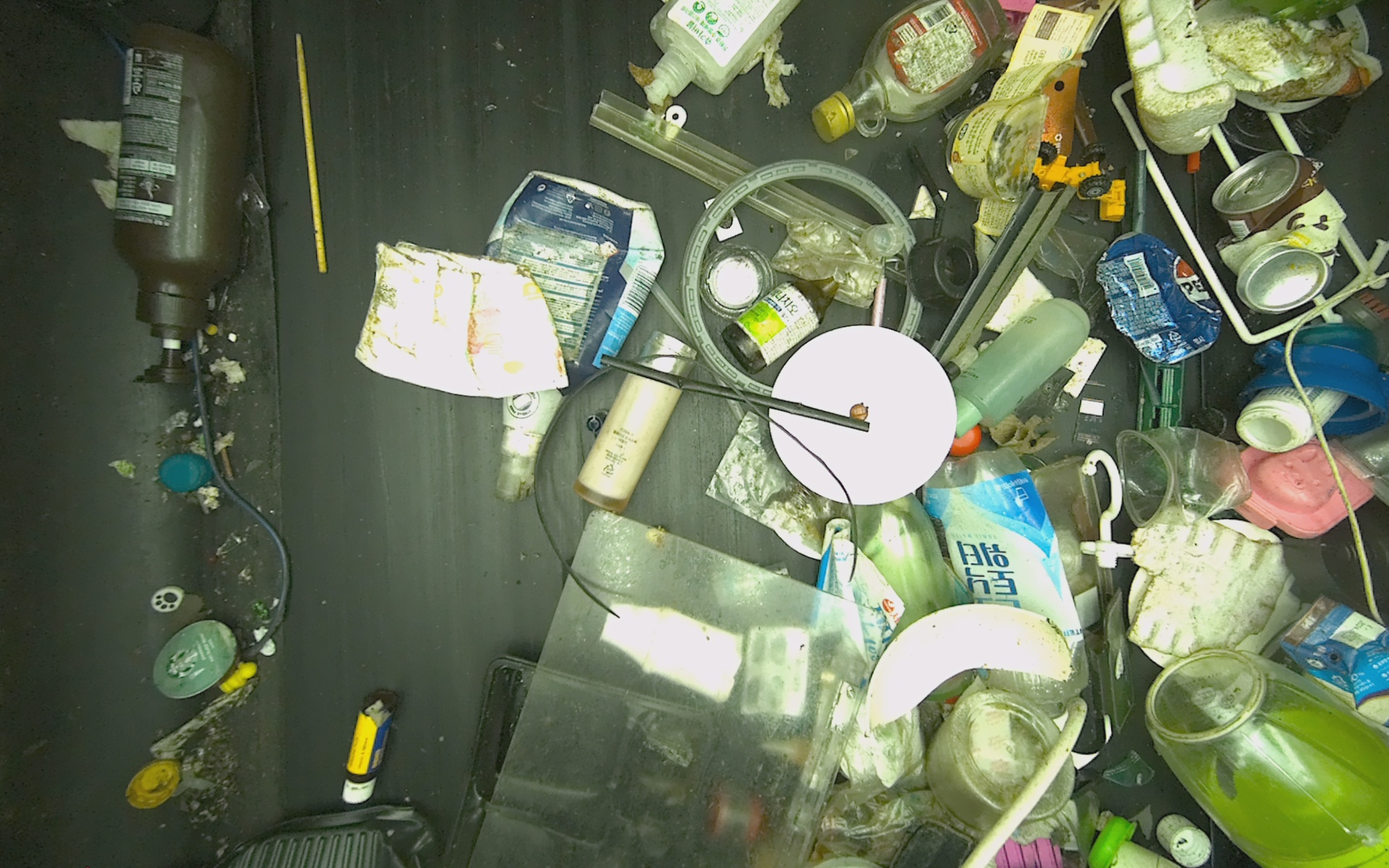PET: (644, 0, 802, 106), (343, 690, 398, 803)
PET-C: (926, 690, 1075, 832), (1116, 426, 1252, 526), (700, 243, 778, 319)
